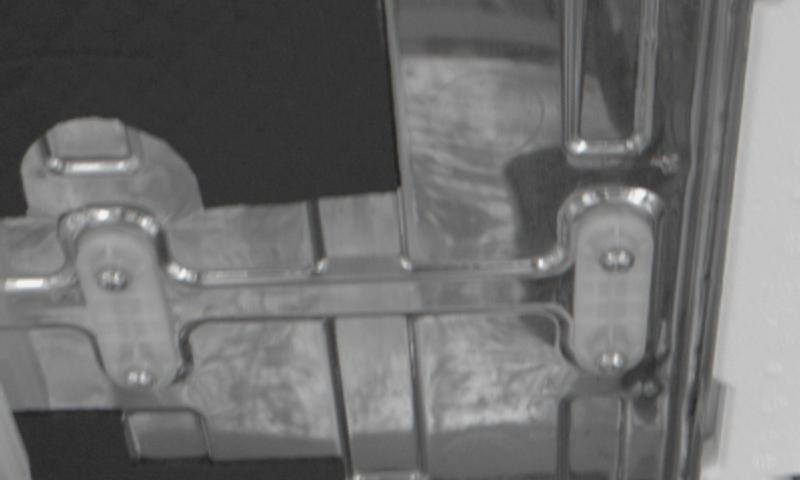vida-ok: (90, 260, 136, 304), (596, 242, 643, 285), (115, 358, 160, 398), (592, 354, 637, 393)
